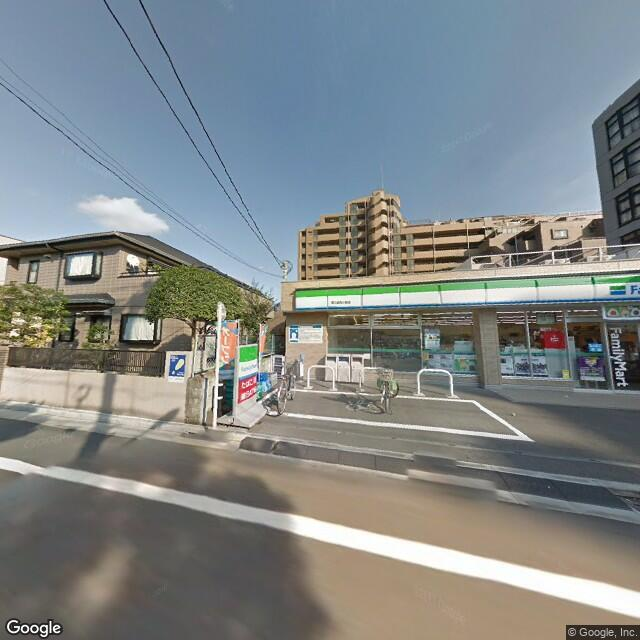family_mart: (295, 269, 638, 313), (606, 321, 628, 389)
